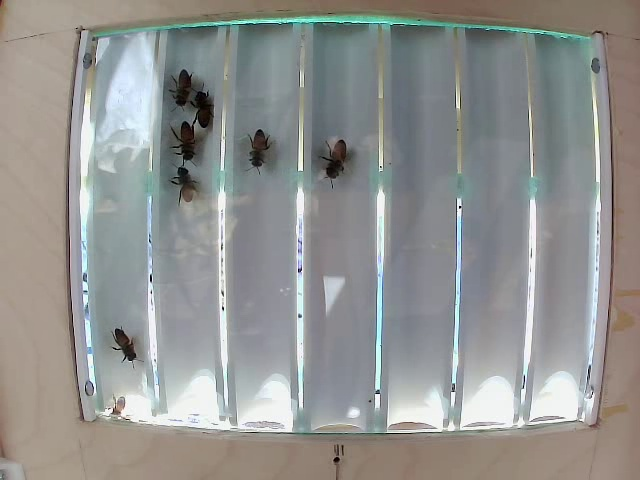bee: (329, 124, 365, 190), (160, 159, 202, 212), (251, 114, 282, 180), (168, 119, 209, 161), (173, 59, 203, 108), (188, 82, 222, 125)
